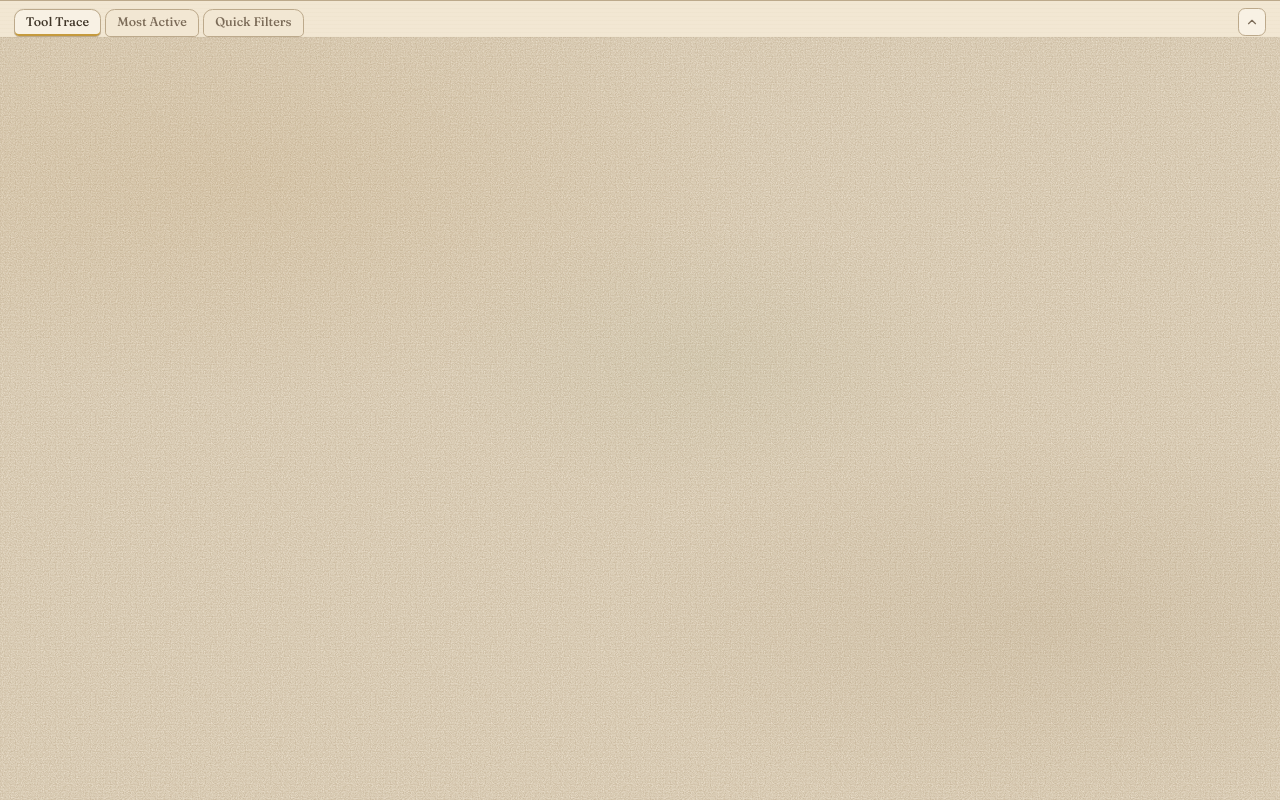
Test case: BottomDock › switches to Most Active pane
The image size is (1280, 800).
Click the tab "Most Active".
click(152, 23)  # box [105,9,199,37]
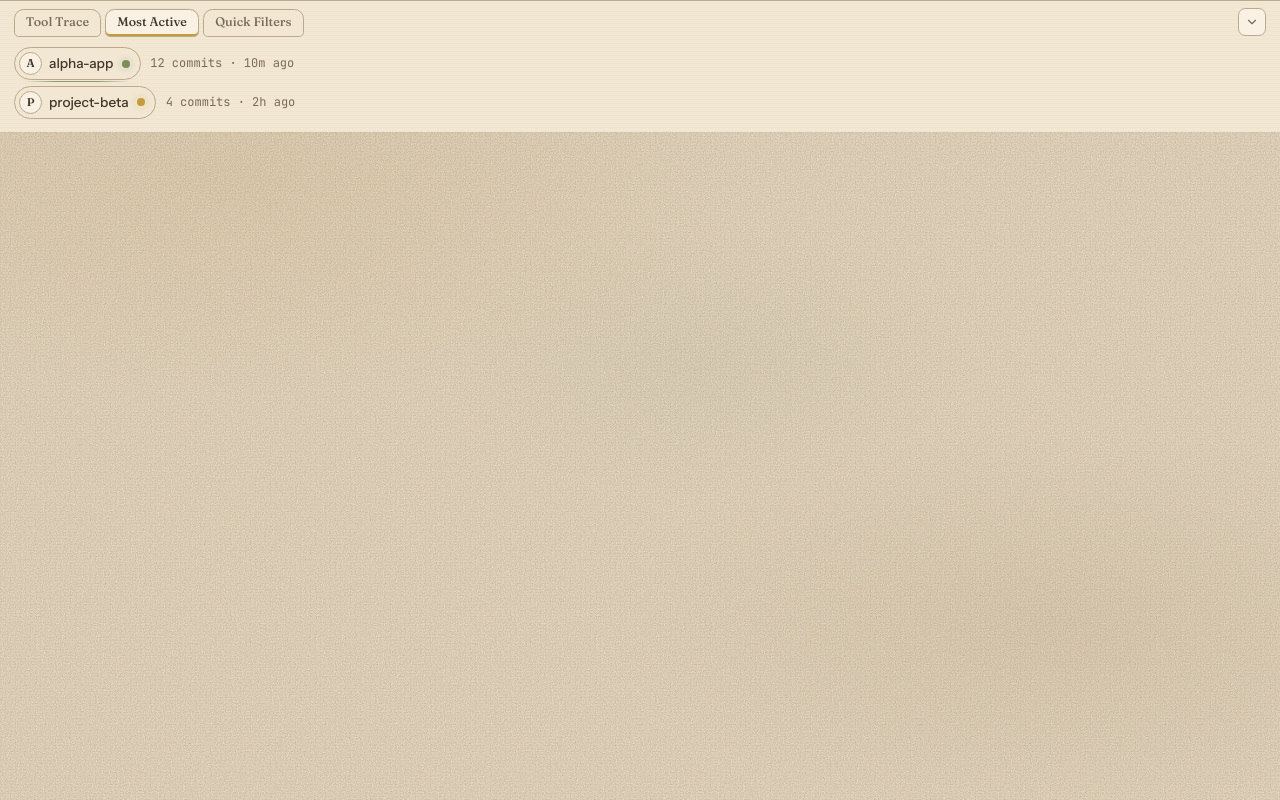
Now the text "alpha-app" is shown, box [49,55,113,72]
Now the text "project-beta" is shown, box [49,94,129,110]
Now the text "12 commits · 10m ago" is shown, box [150,54,294,73]
